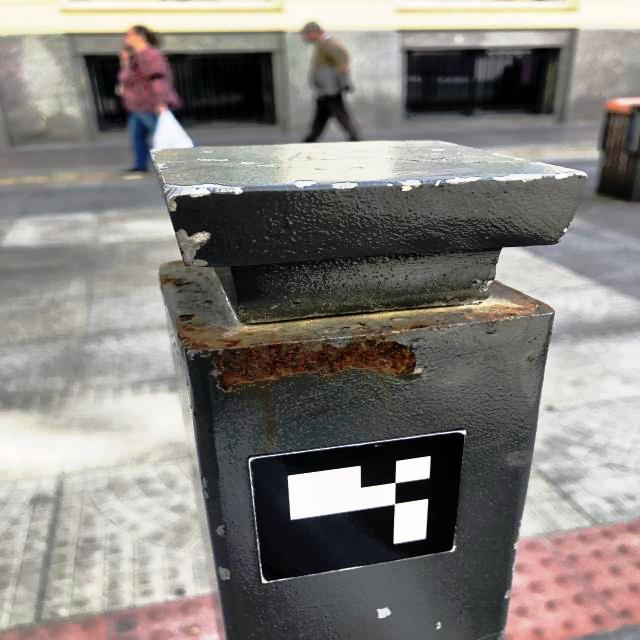Corrosion: (175, 314, 416, 391), (471, 284, 543, 319), (398, 322, 453, 333), (160, 273, 182, 289), (355, 328, 385, 339), (170, 260, 184, 267), (549, 306, 555, 315), (548, 333, 551, 347)
